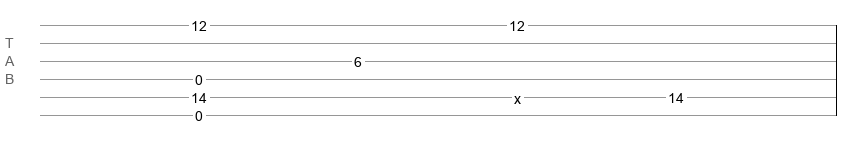0: (195, 72, 203, 82), (195, 108, 203, 118)
12: (191, 18, 207, 28), (509, 18, 525, 28)
14: (191, 90, 207, 100), (668, 90, 684, 100)
6: (354, 54, 362, 64)
x: (514, 91, 521, 99)
